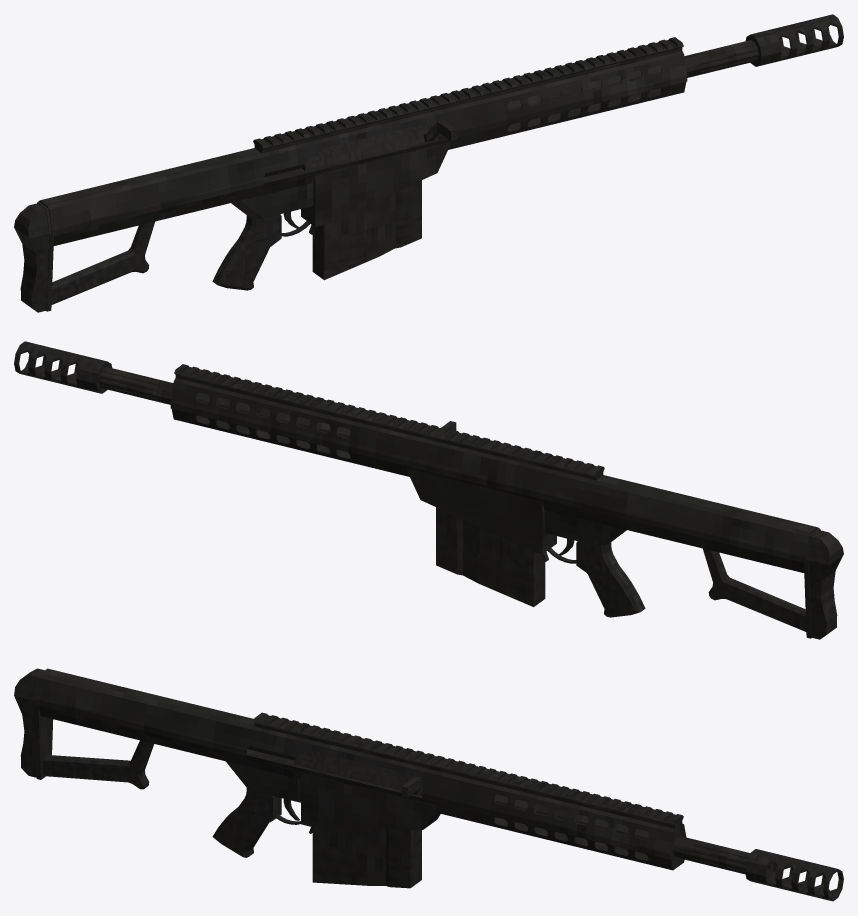
The model's file is shop-item-1078.glb.
3 renders of one model, top to bottom at view 1: azimuth 30°, elevation 25°; view 2: azimuth 150°, elevation 25°; view 3: azimuth 330°, elevation 25°, orthographic.
Visible parts, largest first — view 1: M107, Magazin, Bolt; view 2: M107, Magazin; view 3: M107, Magazin, Bolt.
Boxes of the visible parts, x1=… form: M107: x1=14, y1=14, x2=843, y2=312; Magazin: x1=312, y1=180, x2=421, y2=280; Bolt: x1=263, y1=120, x2=456, y2=177; M107: x1=14, y1=341, x2=843, y2=639; Magazin: x1=436, y1=507, x2=545, y2=607; M107: x1=14, y1=668, x2=843, y2=901; Magazin: x1=312, y1=826, x2=421, y2=888; Bolt: x1=247, y1=746, x2=423, y2=797.
Bounding box in the file's own units: 1.45 × 0.2526 × 0.1022.
1 material, 1 textured.
